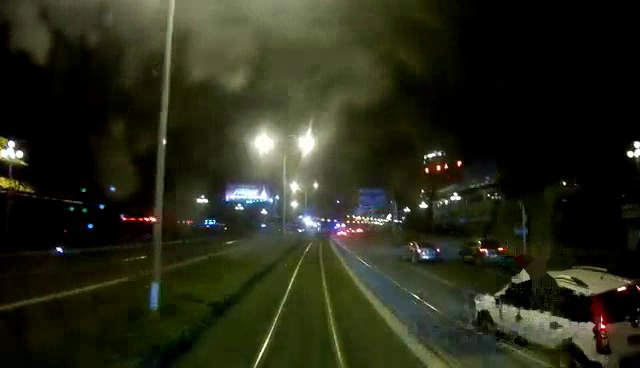car: (463, 269, 640, 366), (453, 235, 506, 266), (398, 237, 441, 263)
